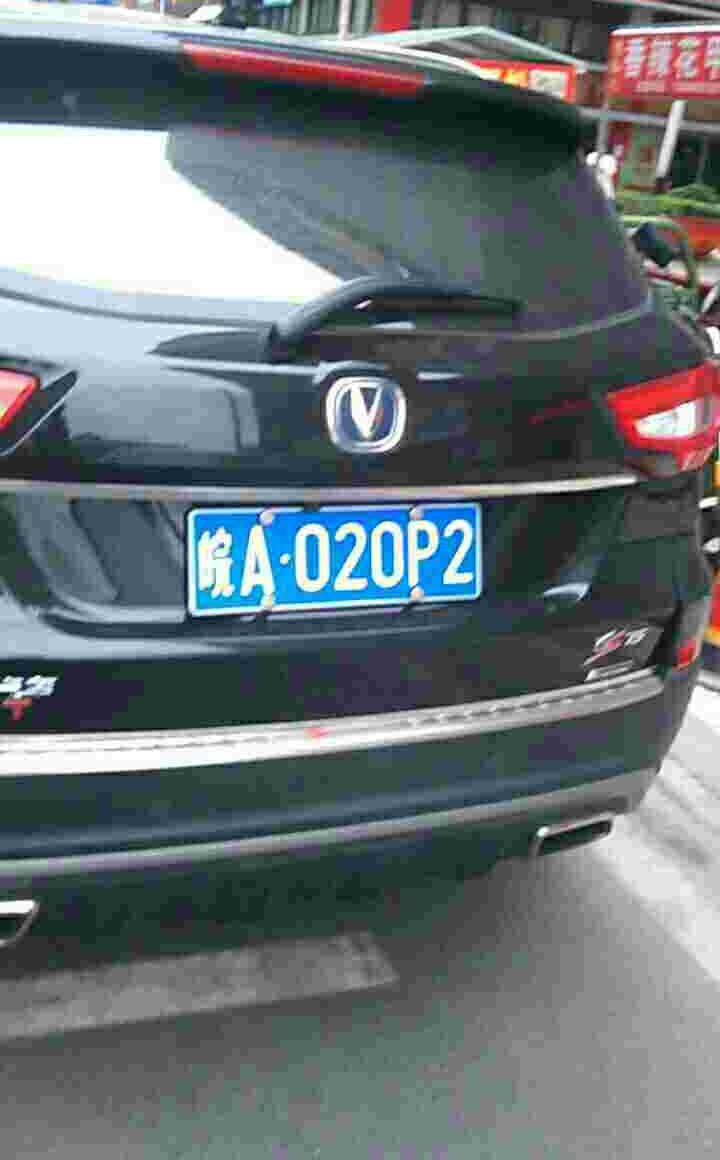license_plate: (187, 505, 488, 606)
